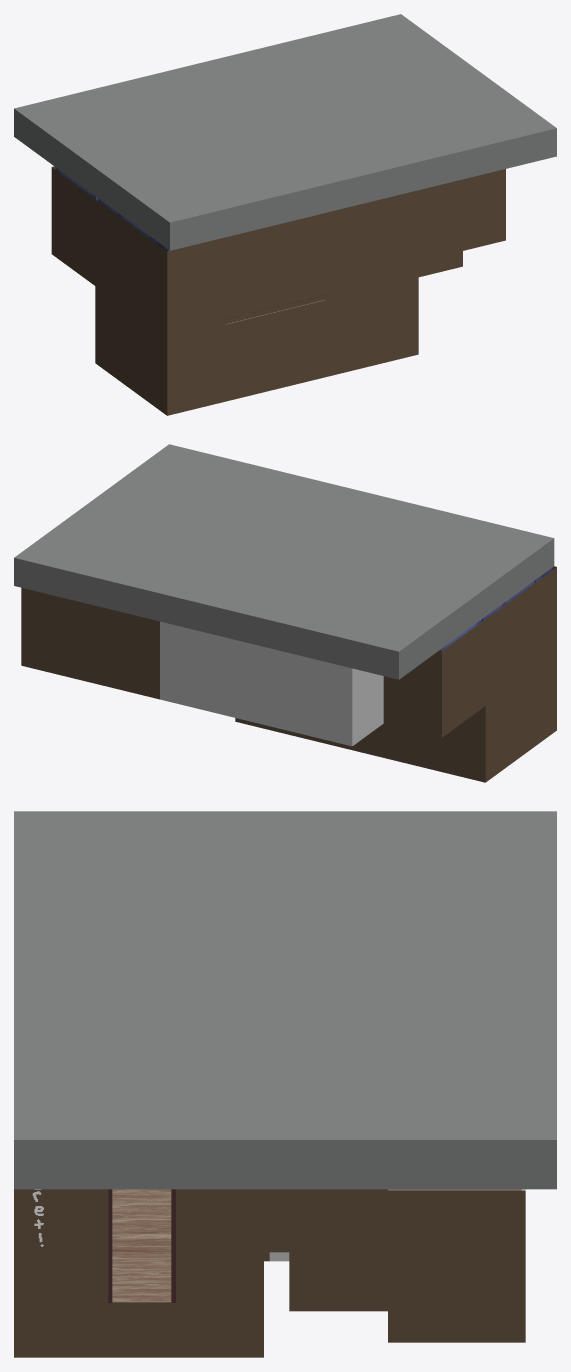
The model's file is HouseEdited.fbx.
3 views of the same model, one above another, from view 1: azimuth 30°, elevation 25°; view 2: azimuth 150°, elevation 25°; view 3: azimuth 270°, elevation 25° (orthographic). The views are drawn at different scales.
Visible parts, largest first — view 1: Cube.012, Cube.011, Cube.001, Cube.008, Cube.007, Cube.009, Cube; view 2: Cube.012, Cube.011, Cube.003, Cube.005, Cube.009, Cube.004, Cube.008, Cube.002; view 3: Cube.012, Cube.005, Cube.011, Cube, Cube.001, Cube.006, Cube.002, Doorframe.001.
Part boxes in pixels (x1,y1,x2,y2): Cube.012: (14, 14, 556, 250); Cube.011: (95, 277, 418, 415); Cube.001: (324, 179, 462, 299); Cube.008: (93, 198, 225, 333); Cube.007: (226, 213, 326, 324); Cube.009: (51, 166, 97, 285); Cube: (463, 169, 505, 250); Cube.012: (14, 444, 554, 679); Cube.011: (235, 649, 556, 782); Cube.003: (245, 642, 383, 746); Cube.005: (21, 587, 116, 688); Cube.009: (383, 620, 485, 737); Cube.004: (160, 621, 247, 720); Cube.008: (481, 566, 556, 705); Cube.002: (116, 611, 159, 699); Cube.012: (14, 811, 556, 1189); Cube.005: (388, 1189, 525, 1342); Cube.011: (14, 1261, 263, 1357); Cube: (69, 1189, 210, 1311); Cube.001: (14, 1189, 269, 1261); Cube.006: (289, 1189, 387, 1311); Cube.002: (269, 1189, 289, 1261); Doorframe.001: (108, 1189, 175, 1302).
Size of the model in its own units: 4000 by 1880 by 2760.
